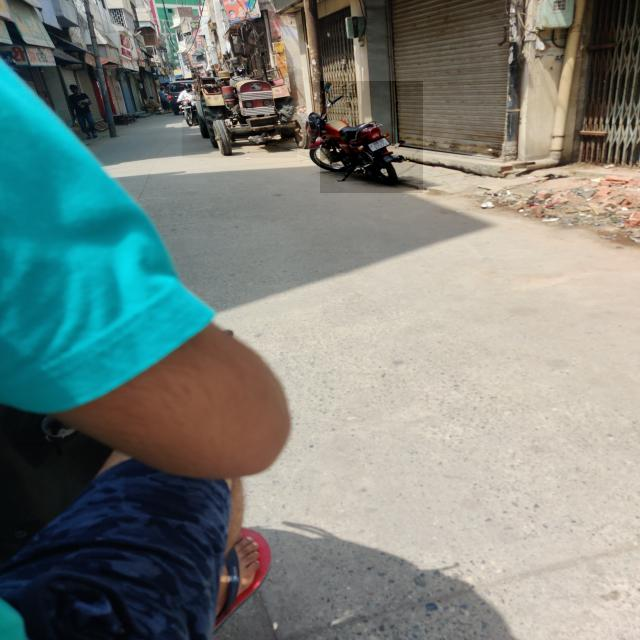Bike: (320, 81, 423, 193)
Tractot: (182, 66, 297, 158)
